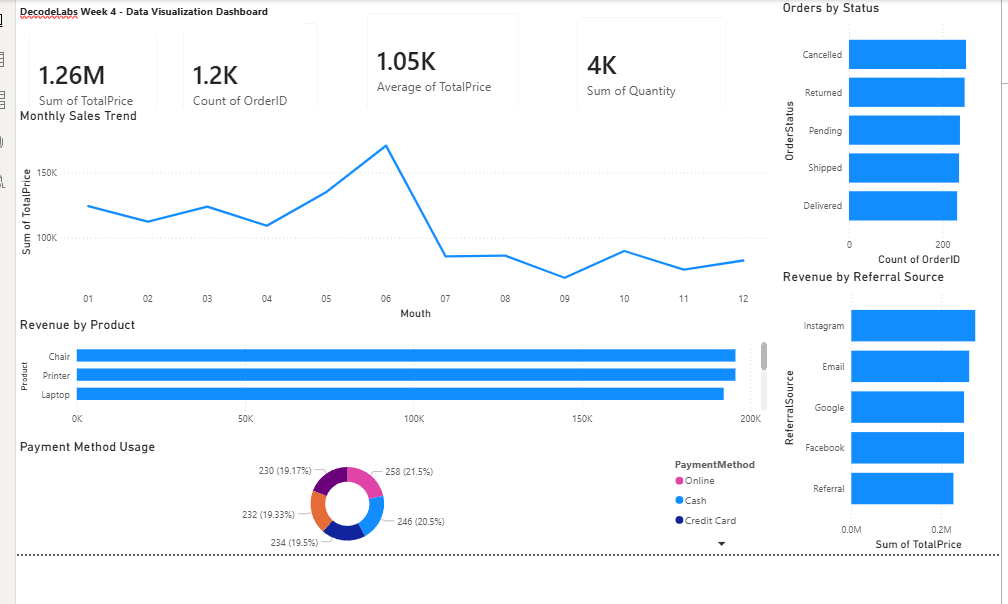

The page's visual inventory and layout, read from the dashboard file:
{"tool":"powerbi","page":{"name":"Page 1","canvas":[1280,720],"ordinal":0},"visuals":[{"type":"cardVisual","fields":{"Data":["Sum(Sheet1.TotalPrice)"]},"box":[0,5.2,200.1,202.7],"z":0},{"type":"cardVisual","fields":{"Data":["Avg(Sheet1.TotalPrice)"]},"box":[439.2,0,231.3,176.7],"z":1000},{"type":"cardVisual","fields":{"Data":["Sum(Sheet1.Quantity)"]},"box":[712.1,5.2,227.4,176.7],"z":2000},{"type":"cardVisual","fields":{"Data":["CountNonNull(Sheet1.OrderID)"]},"box":[200.1,13,209.2,185.8],"z":3000},{"type":"lineChart","title":"Monthly Sales Trend","fields":{"Y":["Sum(Sheet1.TotalPrice)"],"Category":["Sheet1.Mouth"]},"box":[0,140.3,981.1,279.4],"z":4000},{"type":"clusteredBarChart","title":"Revenue by Product","fields":{"Category":["Sheet1.Product"],"Y":["Sum(Sheet1.TotalPrice)"]},"box":[0,411.9,981.1,150.7],"z":4001},{"type":"clusteredBarChart","title":"Orders by Status","fields":{"Category":["Sheet1.OrderStatus"],"Y":["CountNonNull(Sheet1.OrderID)"]},"box":[991.5,0,288.5,349.6],"z":4002},{"type":"donutChart","title":"Payment Method Usage","fields":{"Category":["Sheet1.PaymentMethod"],"Y":["CountNonNull(Sheet1.OrderID)"]},"box":[0,570.5,981.1,149.4],"z":4003},{"type":"clusteredBarChart","title":"Revenue by Referral Source","fields":{"Category":["Sheet1.ReferralSource"],"Y":["Sum(Sheet1.TotalPrice)"]},"box":[991.5,349.6,288.5,370.4],"z":4004},{"type":"textbox","box":[0,0,371.7,45.5],"z":4005}]}

Visuals, with their boxes on the page's 1280x720 design canvas (x1, y1, x2, y2). These are canvas units, not pixel positions in the 1008x604 screenshot, which may show the page scaled, cropped or inside an application window:
cardVisual - Sum(Sheet1.TotalPrice): bbox(0, 5, 200, 208)
cardVisual - Avg(Sheet1.TotalPrice): bbox(439, 0, 670, 177)
cardVisual - Sum(Sheet1.Quantity): bbox(712, 5, 940, 182)
cardVisual - CountNonNull(Sheet1.OrderID): bbox(200, 13, 409, 199)
"Monthly Sales Trend" lineChart: bbox(0, 140, 981, 420)
"Revenue by Product" clusteredBarChart: bbox(0, 412, 981, 563)
"Orders by Status" clusteredBarChart: bbox(992, 0, 1280, 350)
"Payment Method Usage" donutChart: bbox(0, 570, 981, 720)
"Revenue by Referral Source" clusteredBarChart: bbox(992, 350, 1280, 720)
textbox: bbox(0, 0, 372, 46)
